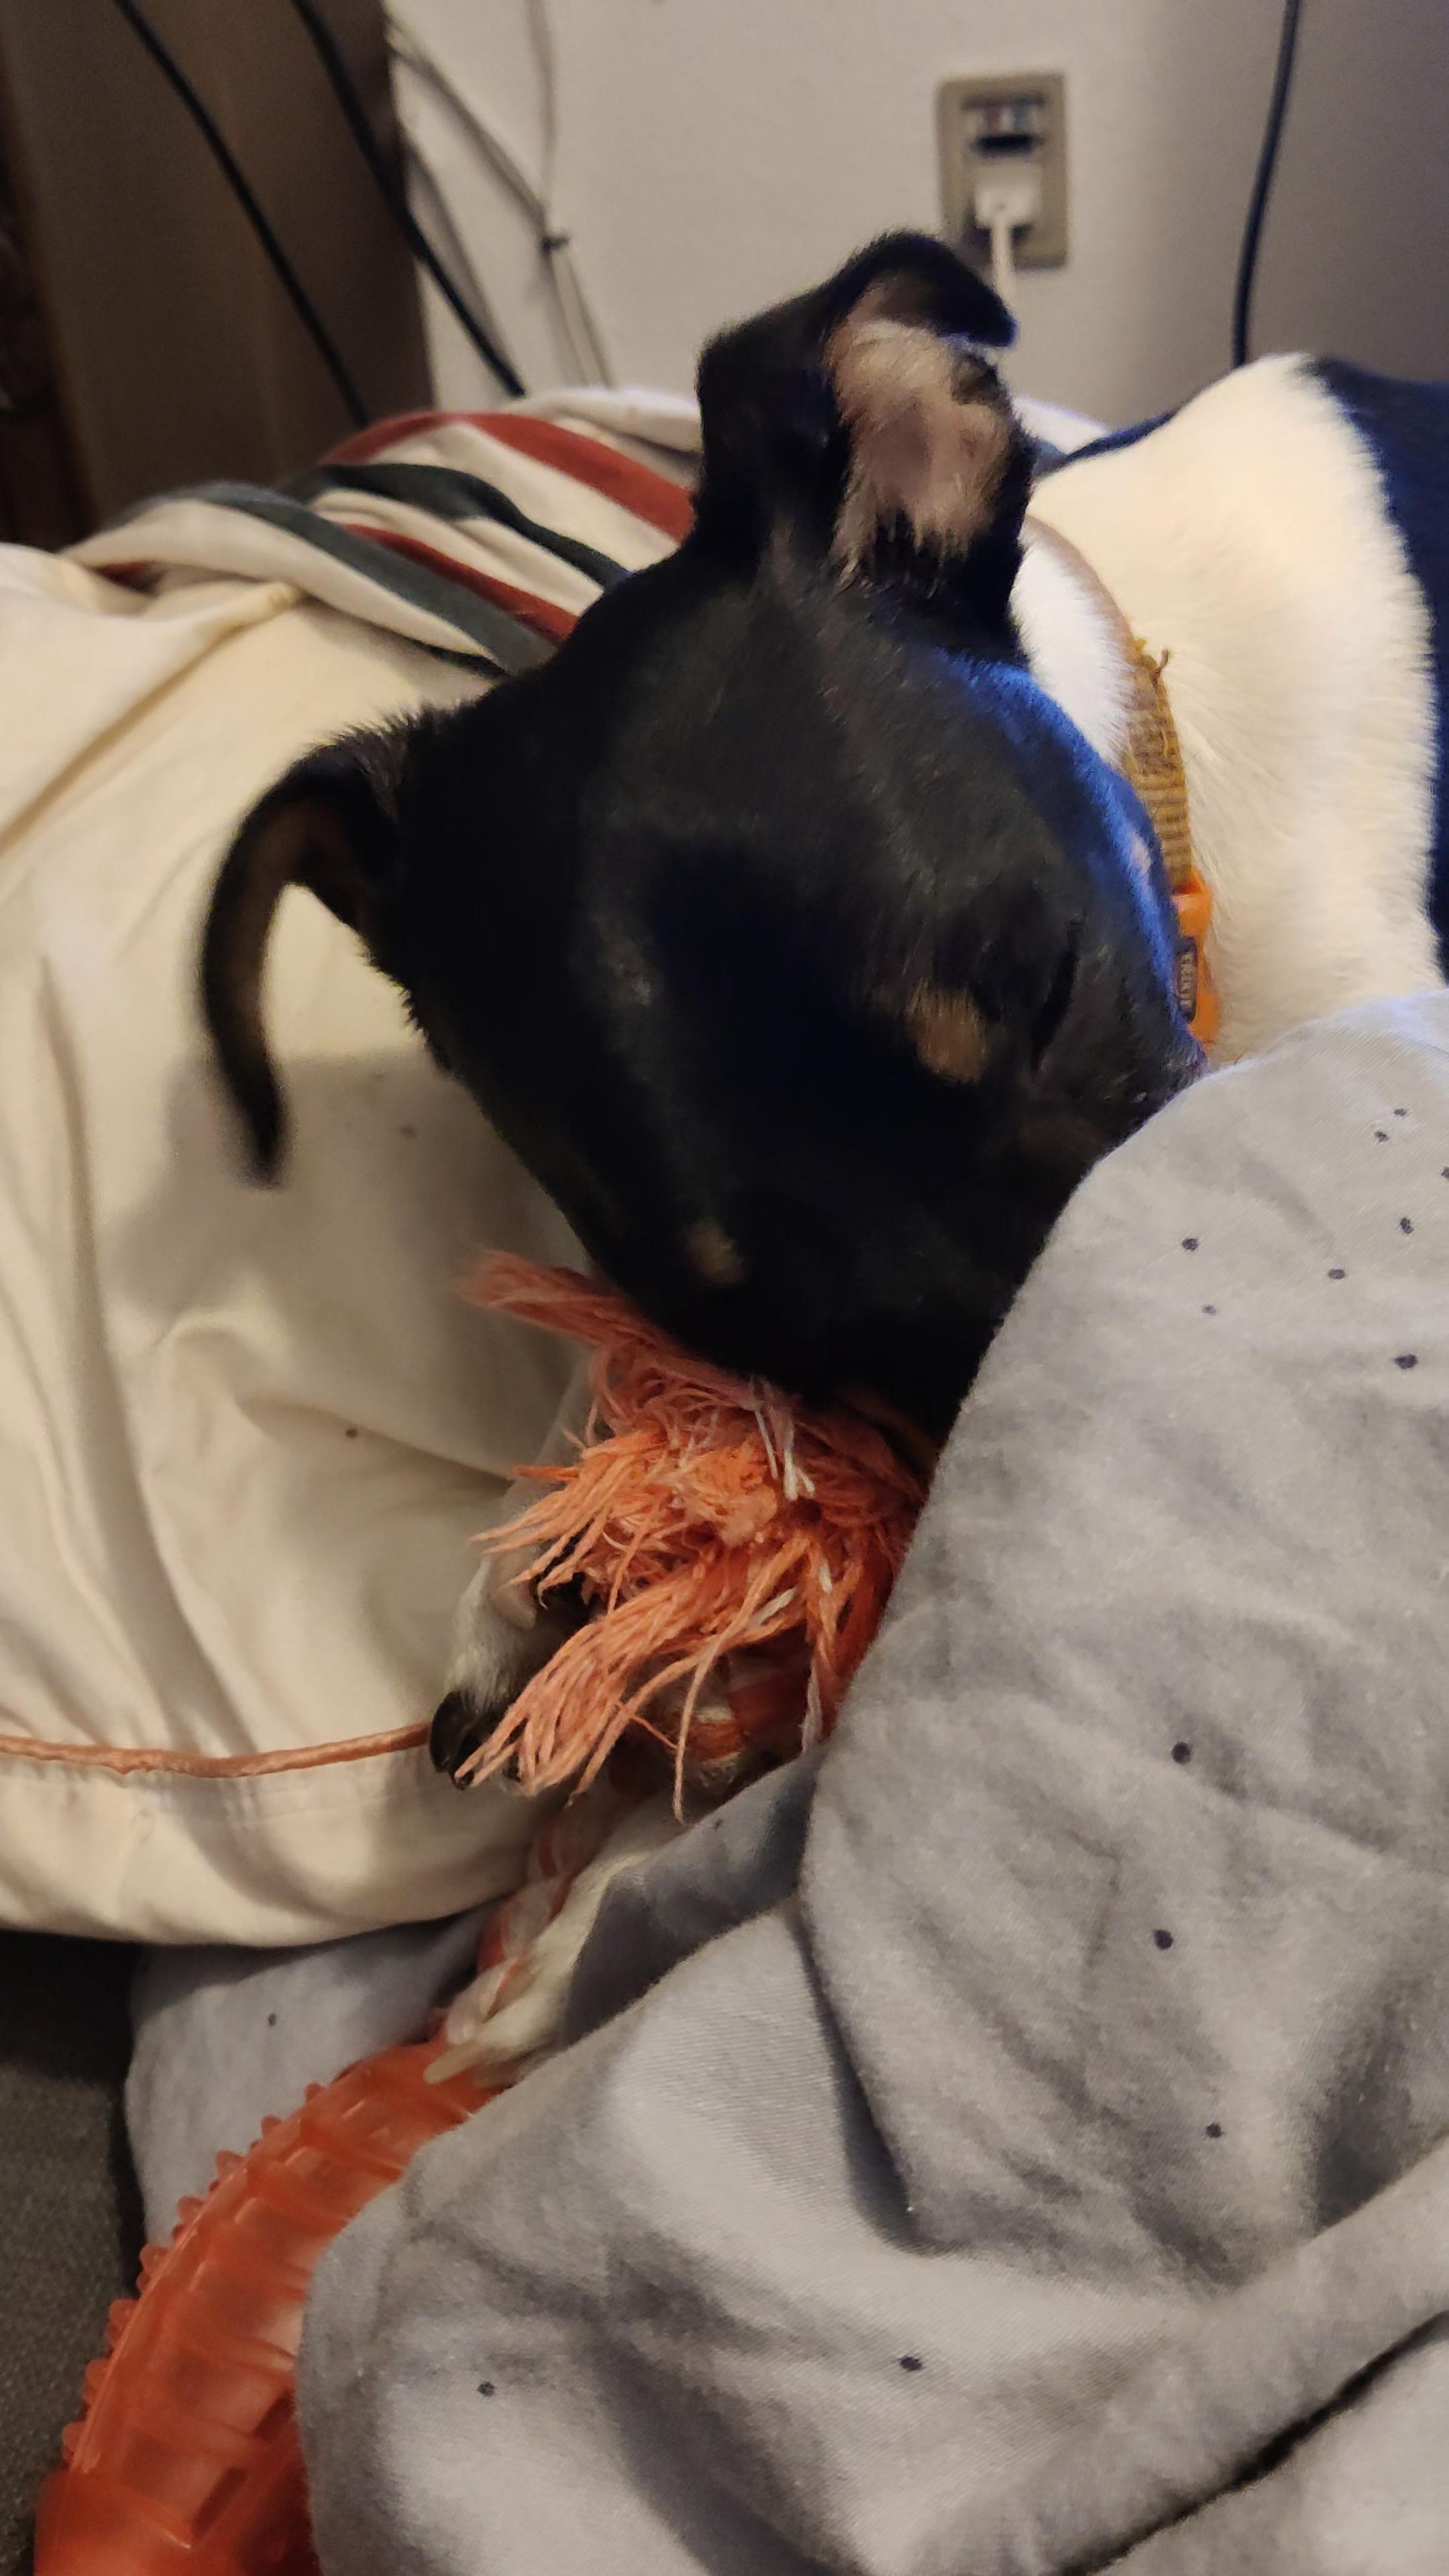Dog: (161, 184, 1449, 2104)
